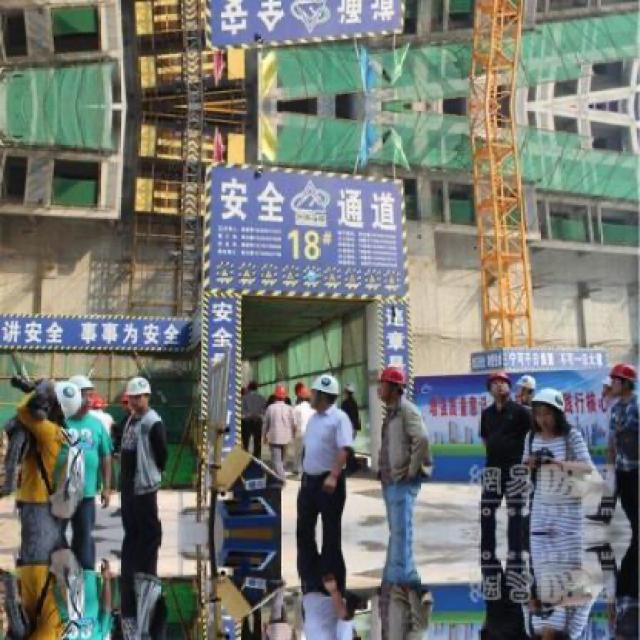helmet: (529, 386, 571, 438), (42, 378, 78, 427), (374, 362, 404, 410), (307, 374, 338, 414), (606, 360, 636, 400), (71, 374, 98, 416), (126, 376, 154, 414), (485, 367, 512, 406), (517, 373, 535, 406), (342, 380, 358, 402), (274, 381, 288, 402), (294, 386, 306, 407)
